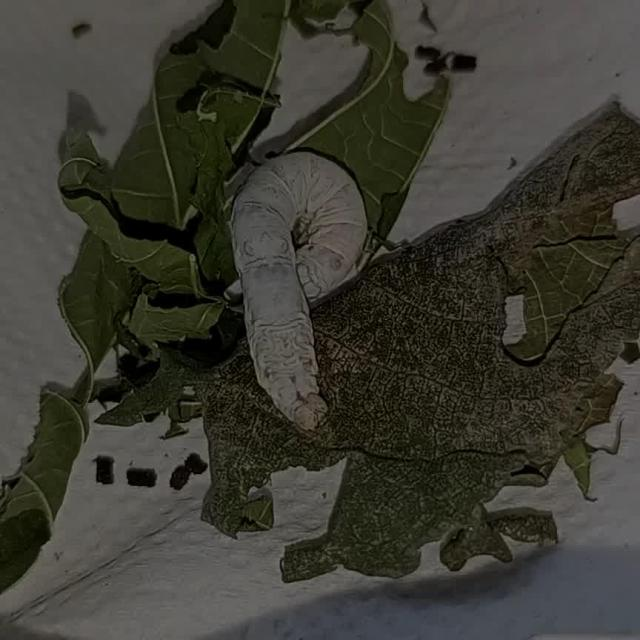Healthy: (206, 107, 417, 472)
